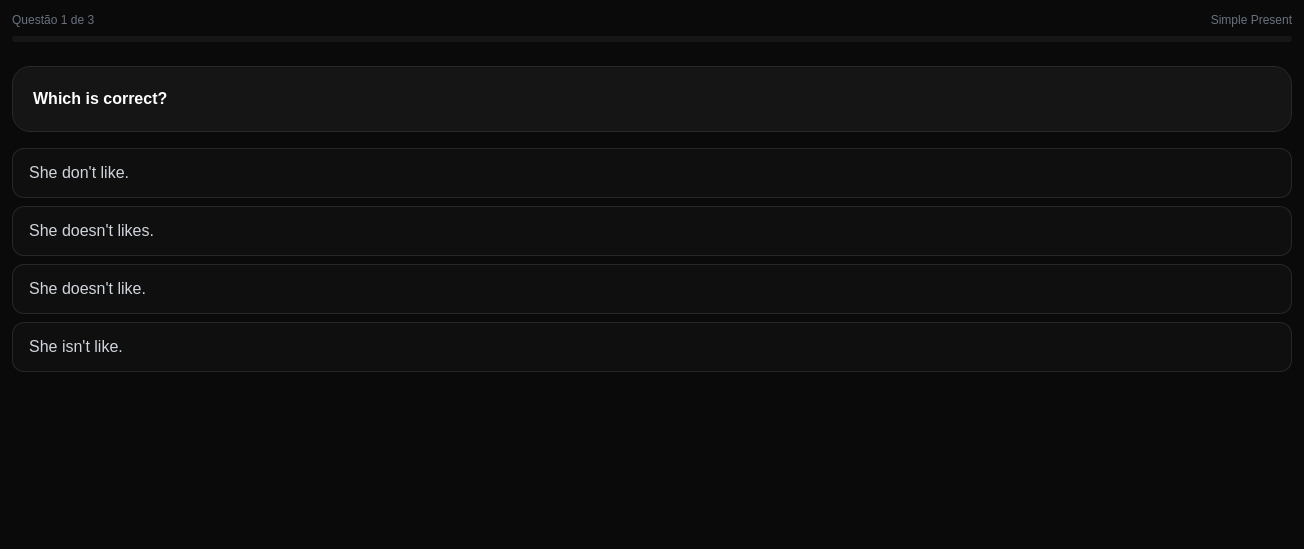
Test: QuizClient › selecionar resposta correta exibe feedback verde
Click the button "She doesn't like." at (87, 288), box [12,264,1292,314]
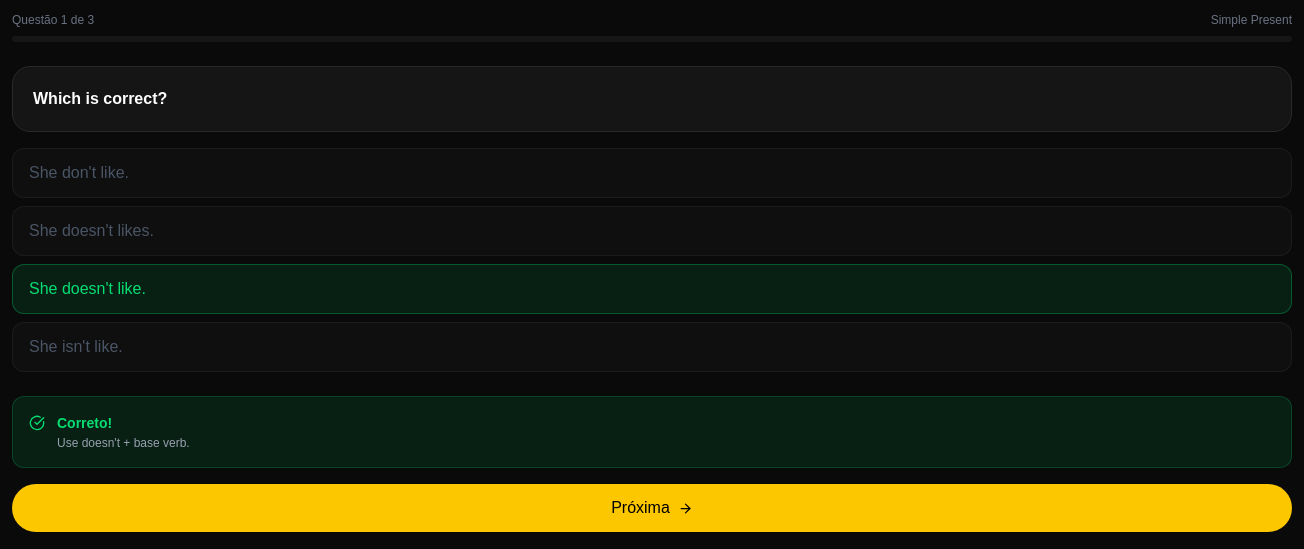
Expected: the text "Correto!" is shown, [57,415,112,431]
